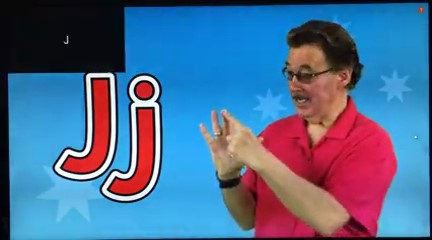J: (193, 104, 263, 174)
